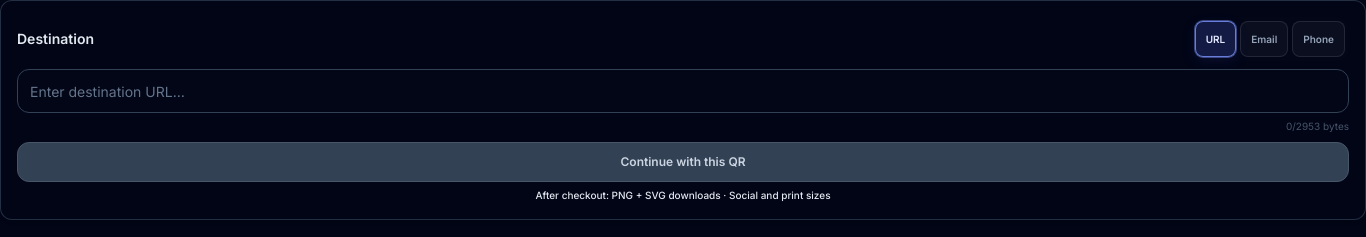
Test case: PayloadInput › preserves entitlement-gated live payload updates
The width and height of the screenshot is (1366, 237).
Type "member.example" into the field.
click(683, 91); type("member.example")  # box [17, 69, 1349, 113]
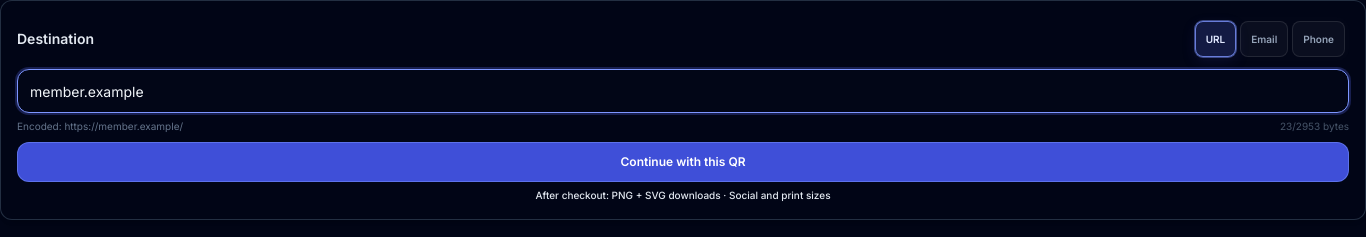
Result: the button "Continue with this QR" is enabled at [17, 142, 1349, 182]
